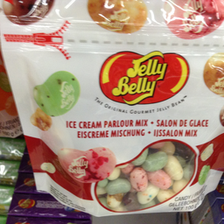candy: (1, 1, 222, 212)
